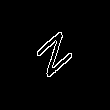N_SW: (31, 25, 79, 85)
